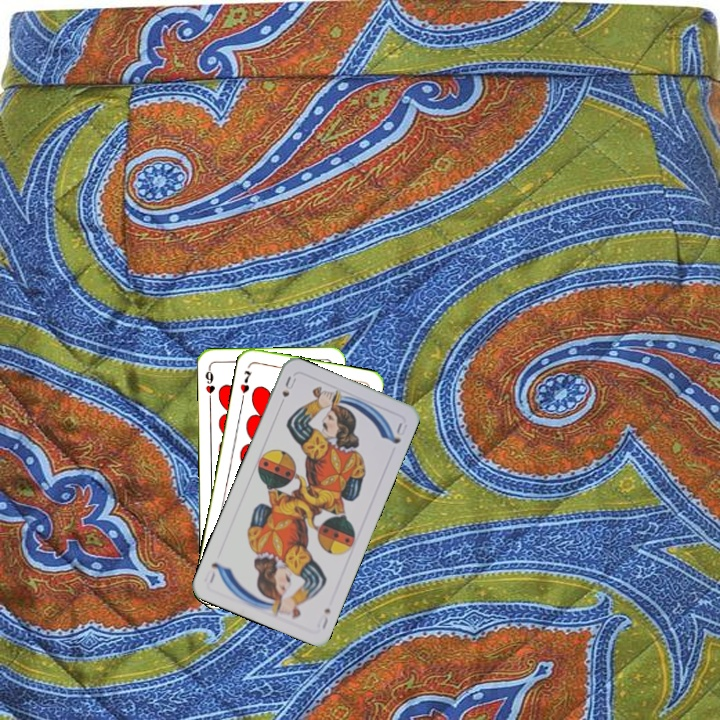H7: (236, 366, 254, 396)
H9: (202, 363, 217, 404)
SU: (278, 372, 299, 400), (313, 604, 333, 632)
